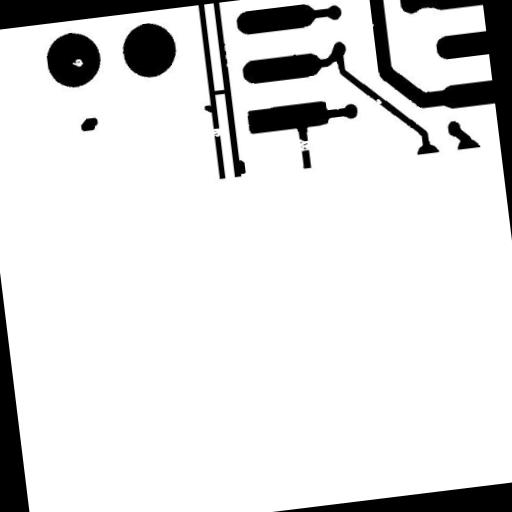copper: (72, 109, 106, 140)
mousebite: (364, 90, 390, 112)
open: (284, 129, 324, 160), (202, 120, 230, 146)
pin-hole: (64, 50, 92, 76)
short: (204, 80, 238, 104)
spur: (228, 150, 254, 182), (195, 96, 222, 121)
